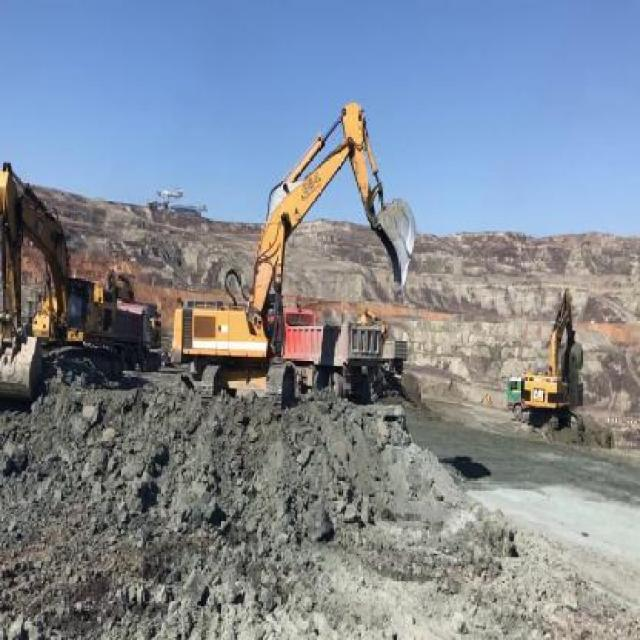Dump Truck: (285, 308, 333, 394), (342, 315, 383, 400), (121, 304, 164, 379), (384, 335, 408, 379), (506, 370, 520, 415)
Excavator: (172, 105, 416, 408), (0, 151, 122, 411), (522, 291, 588, 434)
